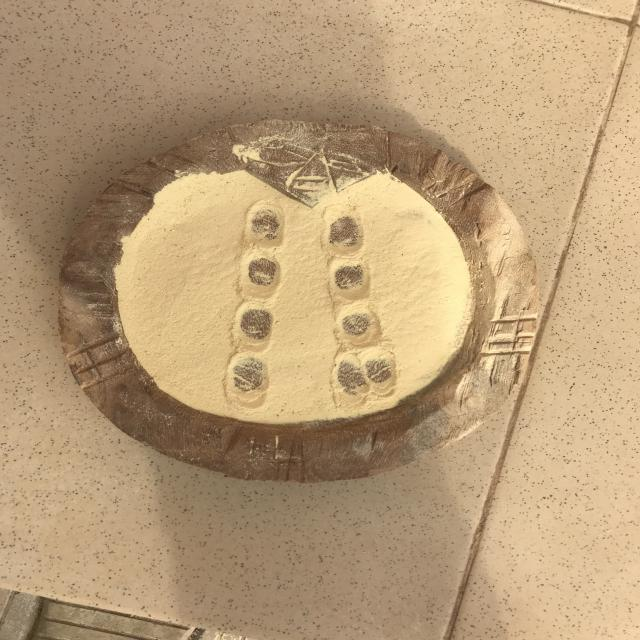double: (328, 348, 402, 402)
single: (224, 353, 274, 412), (326, 303, 386, 352), (323, 254, 378, 306), (238, 247, 284, 306), (243, 196, 290, 253), (230, 303, 278, 357), (320, 202, 368, 255)
